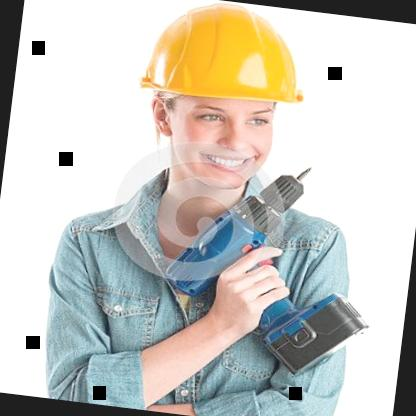helmet: (105, 0, 336, 223)
